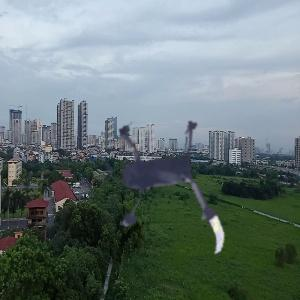drone: (63, 98, 249, 284)
